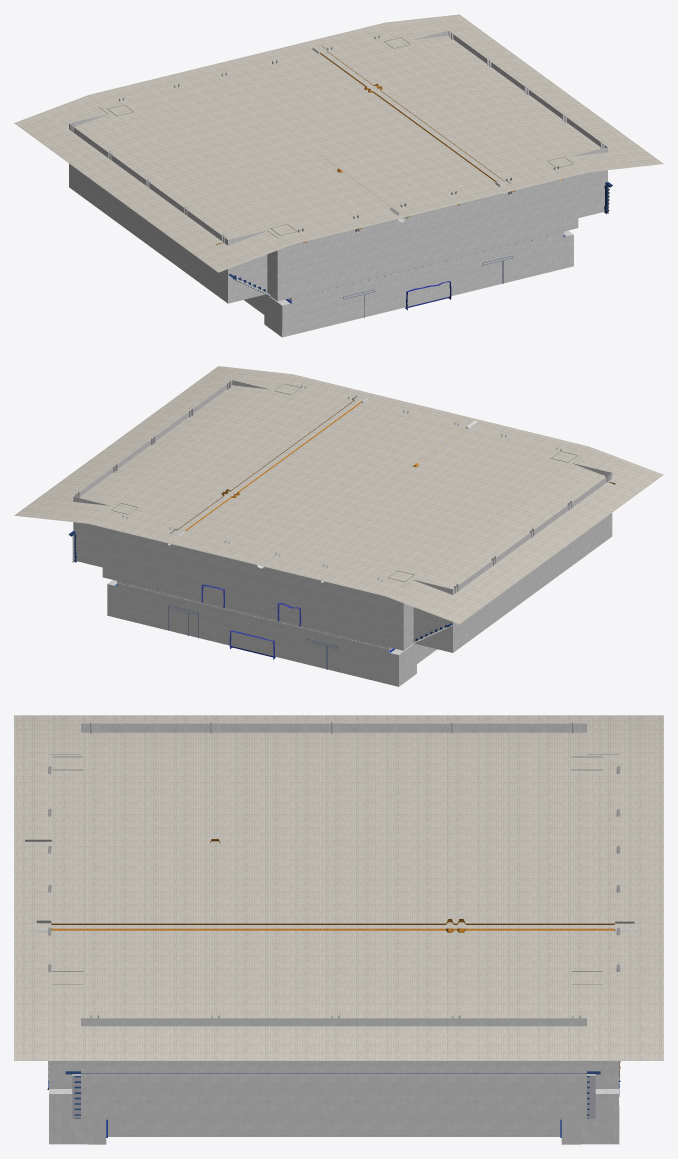
Rendered from gym.fbx.
The picture shows the model from 3 angles, top to bottom: view 1: azimuth 30°, elevation 25°; view 2: azimuth 150°, elevation 25°; view 3: azimuth 270°, elevation 25°; orthographic projection. The views are drawn at different scales.
Visible parts, largest first — view 1: pCube204_curve1; view 2: pCube204_curve1; view 3: pCube204_curve1.
Part boxes in pixels (x1,y1,x2,y2): pCube204_curve1: (14, 14, 663, 337); pCube204_curve1: (14, 366, 663, 686); pCube204_curve1: (14, 715, 663, 1144).
Bounding box in the file's own units: 270 × 61.29 × 214.
